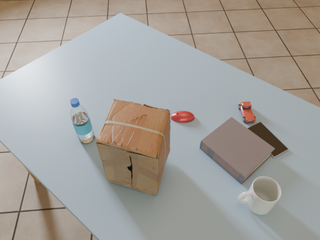book: (200, 117, 275, 184)
bottle: (70, 98, 94, 143)
box: (96, 99, 171, 195)
cup: (238, 177, 281, 215)
mouse: (170, 111, 194, 123)
phone: (248, 122, 288, 158)
toy_car: (238, 102, 255, 122)
